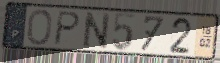2: (169, 16, 194, 56)
5: (111, 11, 139, 53)
7: (140, 15, 166, 53)
N: (82, 11, 111, 50)
O: (26, 8, 54, 46)
P: (52, 10, 82, 47)
